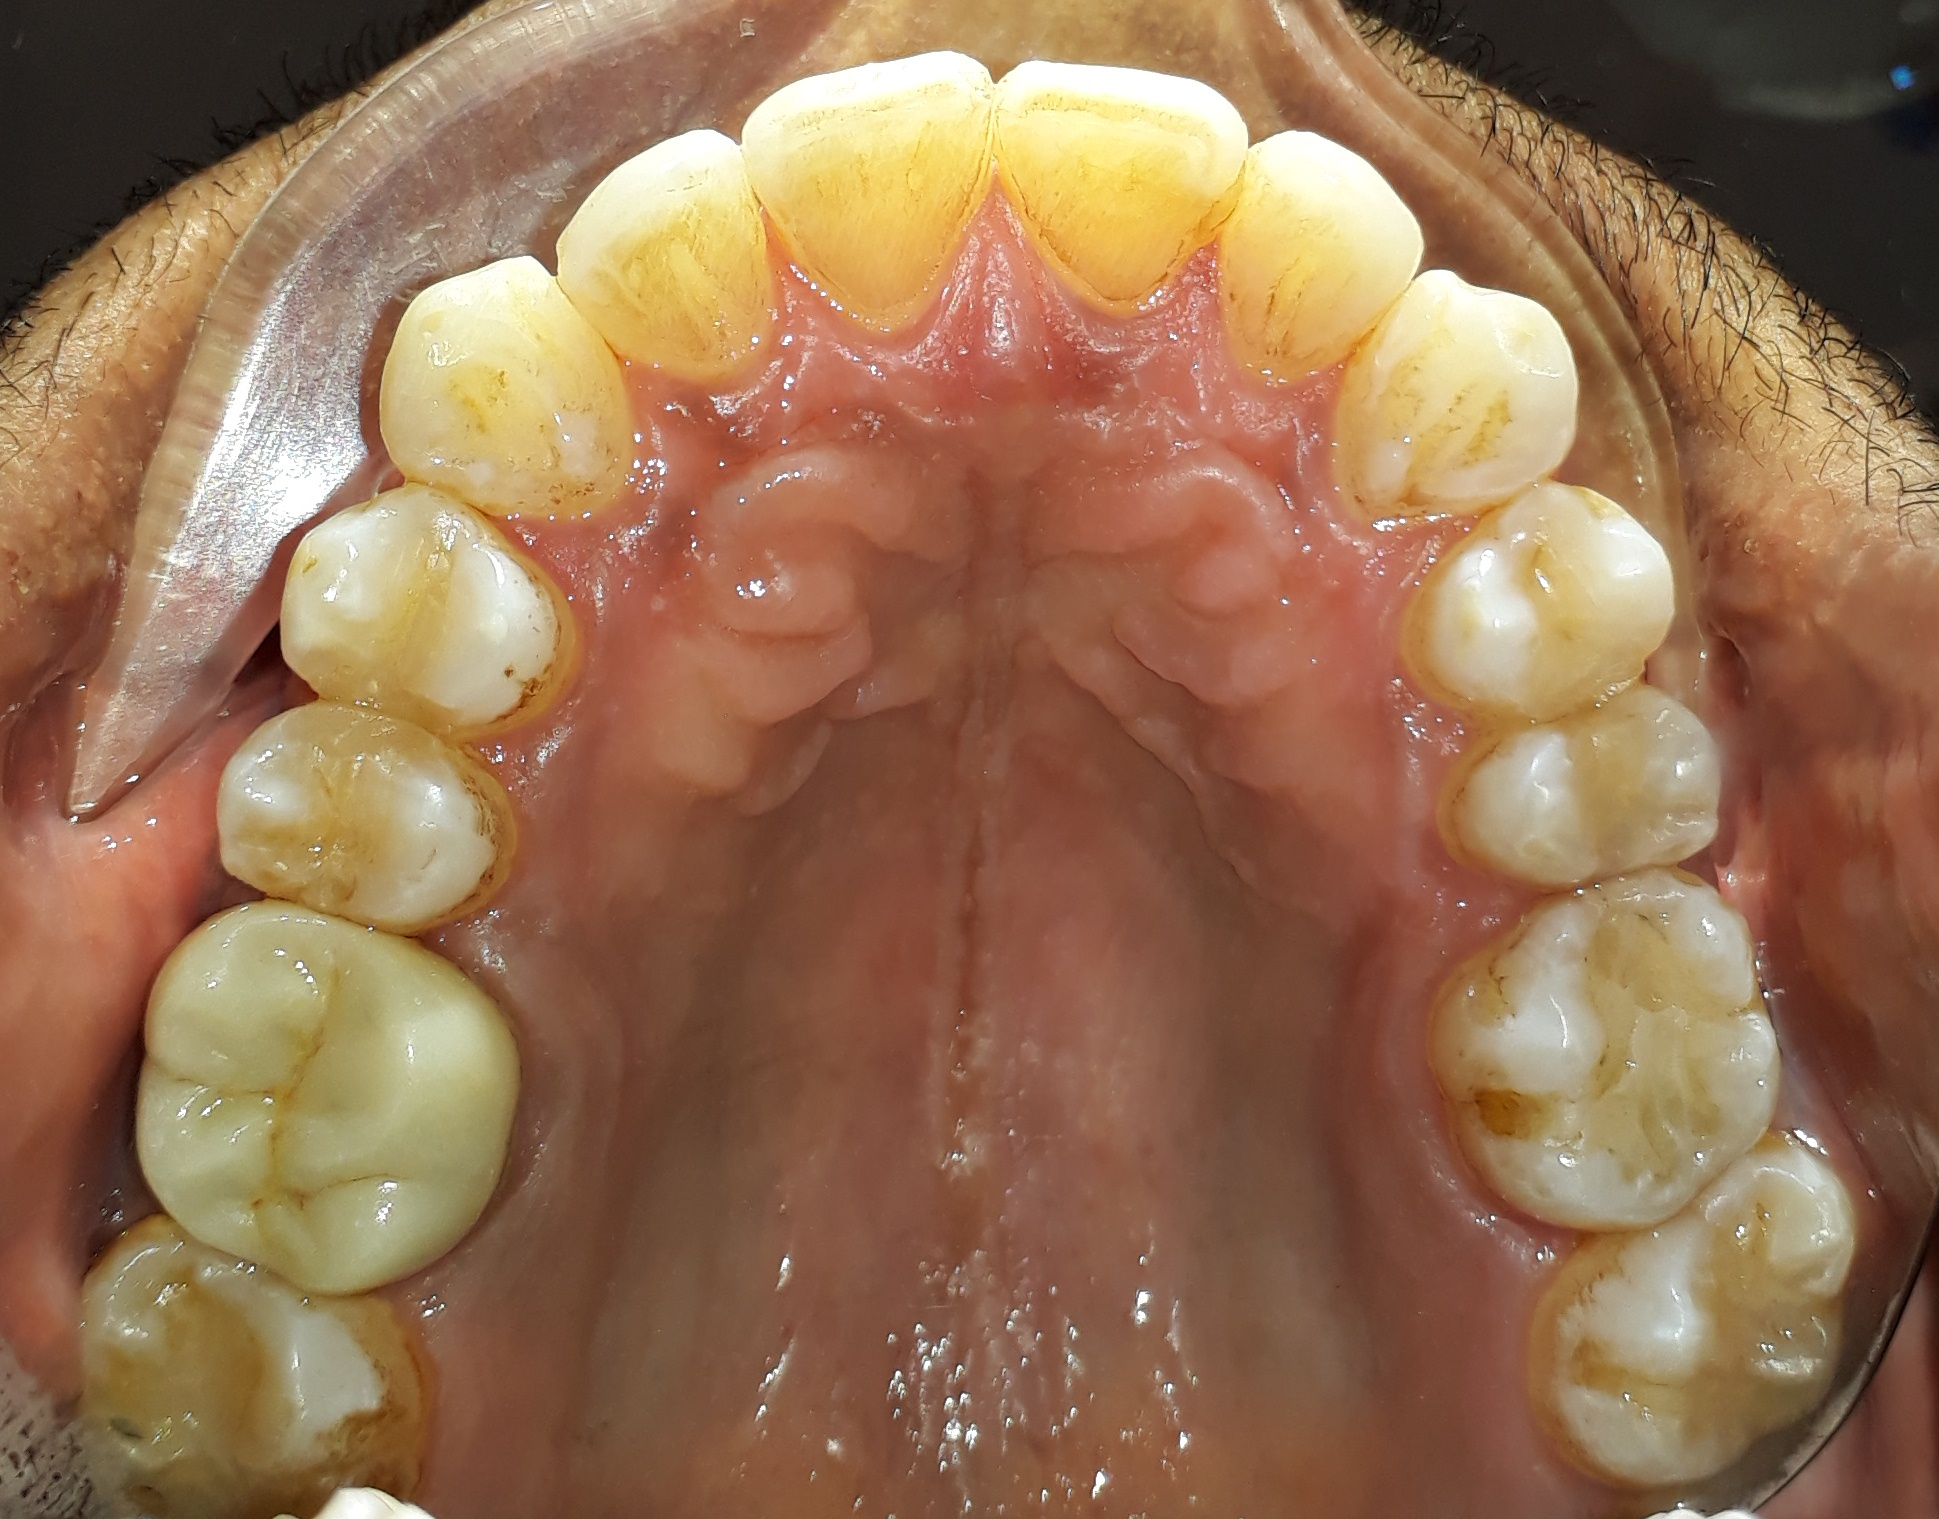1st Molar: (137, 900, 538, 1300), (1435, 878, 1783, 1233)
1st Premolar: (283, 483, 581, 730), (1402, 479, 1668, 715)
2nd Molar: (1527, 1141, 1871, 1502), (80, 1233, 390, 1516)
2nd Premolar: (219, 711, 523, 929), (1443, 702, 1727, 881)
Canine: (381, 258, 644, 515), (1328, 268, 1575, 523)
Central Incisor: (748, 54, 999, 338), (999, 50, 1245, 320)
Lateral Incisor: (552, 121, 785, 383), (1231, 126, 1424, 375)
